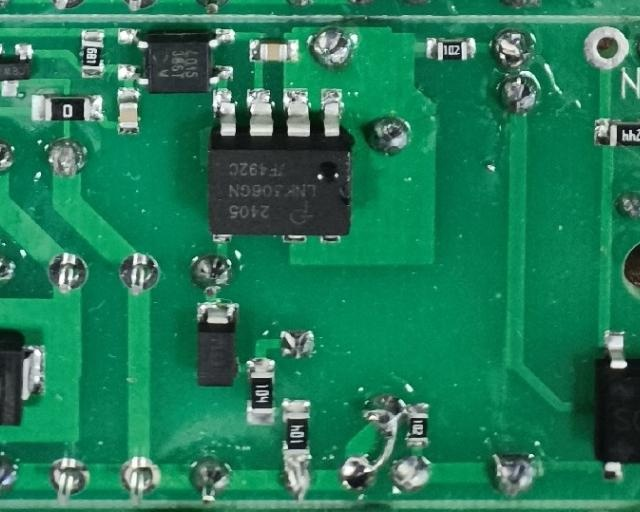chip-capacitor: (247, 37, 301, 63), (116, 86, 141, 135)
chip-resistor: (28, 91, 104, 124), (245, 356, 277, 426), (281, 397, 312, 461), (594, 115, 640, 147), (79, 26, 106, 79), (425, 35, 479, 61), (406, 403, 430, 448)
diode: (195, 298, 240, 386)
ic: (207, 86, 356, 246), (115, 24, 236, 93)
transistor: (0, 41, 35, 98)
